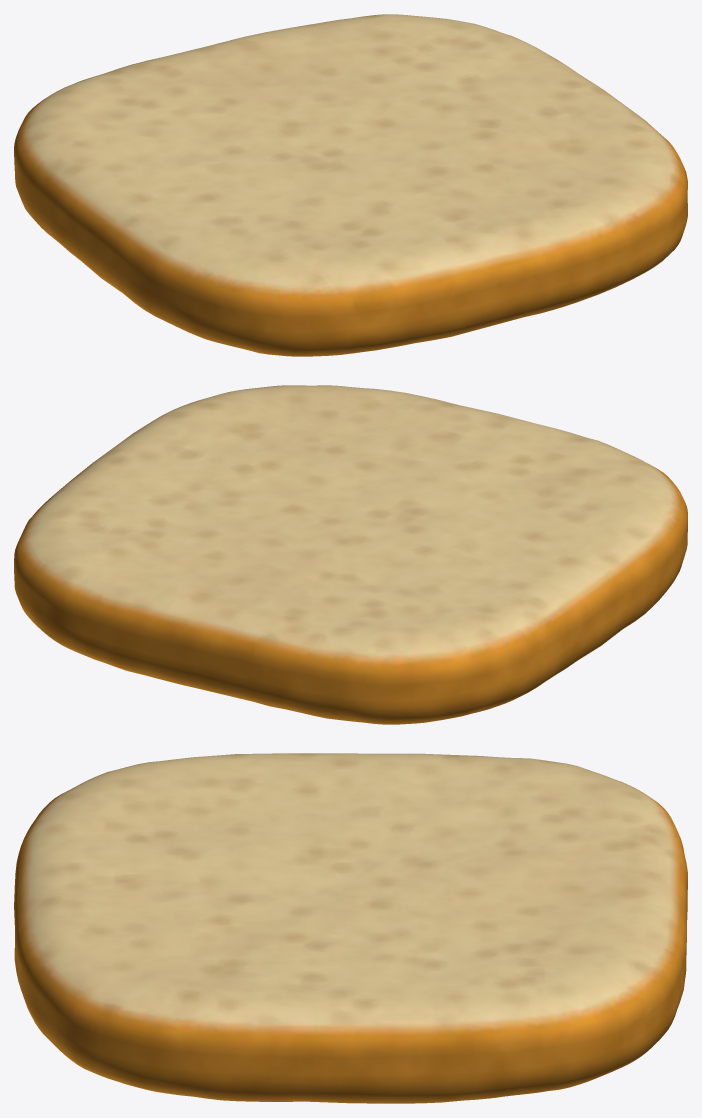
File: bread_pav_bottom.glb
3 renders of one model, top to bottom at view 1: azimuth 30°, elevation 25°; view 2: azimuth 150°, elevation 25°; view 3: azimuth 270°, elevation 25°, orthographic. The views are drawn at different scales.
Visible parts, largest first — view 1: EX_Bread_pav_bottom; view 2: EX_Bread_pav_bottom; view 3: EX_Bread_pav_bottom.
Part boxes in pixels (x1,y1,x2,y2): EX_Bread_pav_bottom: (14, 14, 687, 356); EX_Bread_pav_bottom: (14, 385, 687, 724); EX_Bread_pav_bottom: (14, 753, 687, 1103).
Bounding box in the file's own units: 0.0923 × 0.0166 × 0.0921.
Materials: 1 (1 with a texture image).
